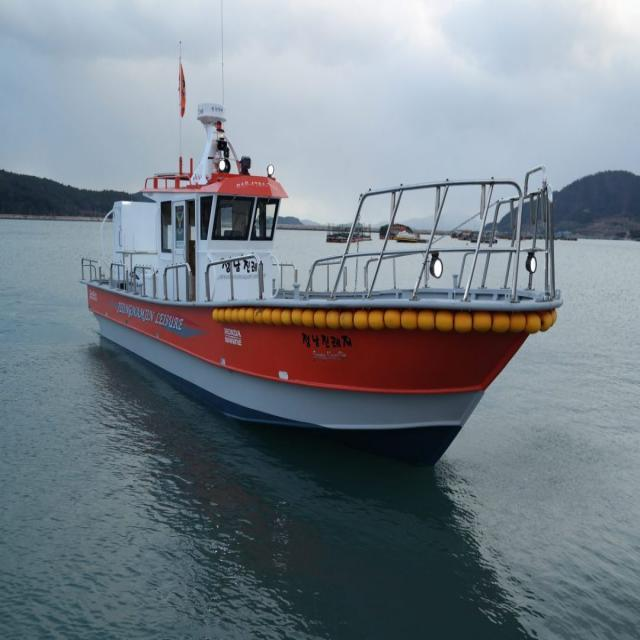Ship: (73, 5, 565, 485)
